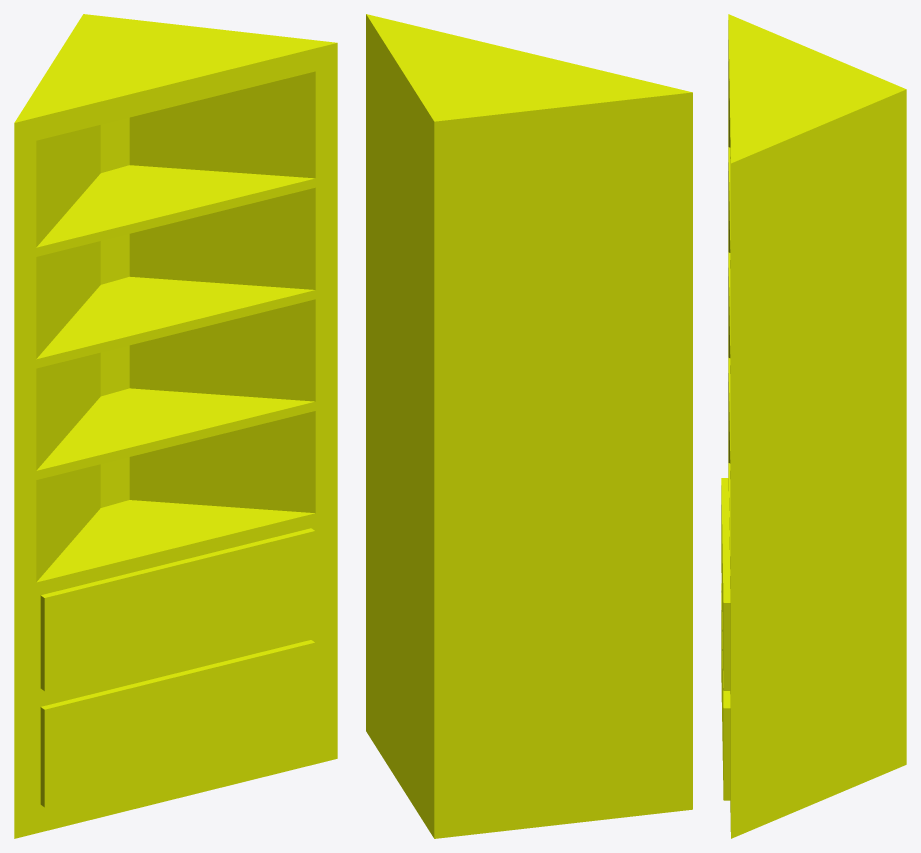
Rendered from Cupboard3.FBX.
3 renders of one model, left to right at view 1: azimuth 30°, elevation 25°; view 2: azimuth 150°, elevation 25°; view 3: azimuth 270°, elevation 25°, orthographic. The views are drawn at different scales.
Parts seen in each view (by area): view 1: Box022; view 2: Box022; view 3: Box022.
Part boxes in pixels (box(x1,y1,x2,y2)): Box022: box(14, 14, 337, 838); Box022: box(366, 14, 692, 838); Box022: box(721, 14, 906, 838).
Size of the model in its own units: 1.32 by 2.78 by 0.6919.
